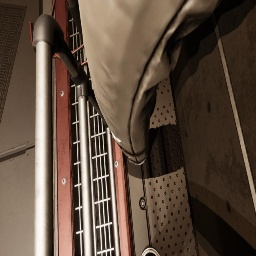NitrogenTank ,: (150, 89, 157, 113)
